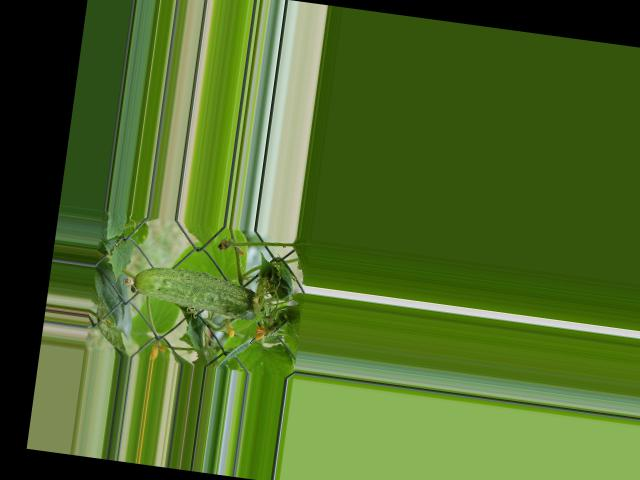cucumber: (123, 262, 267, 320)
